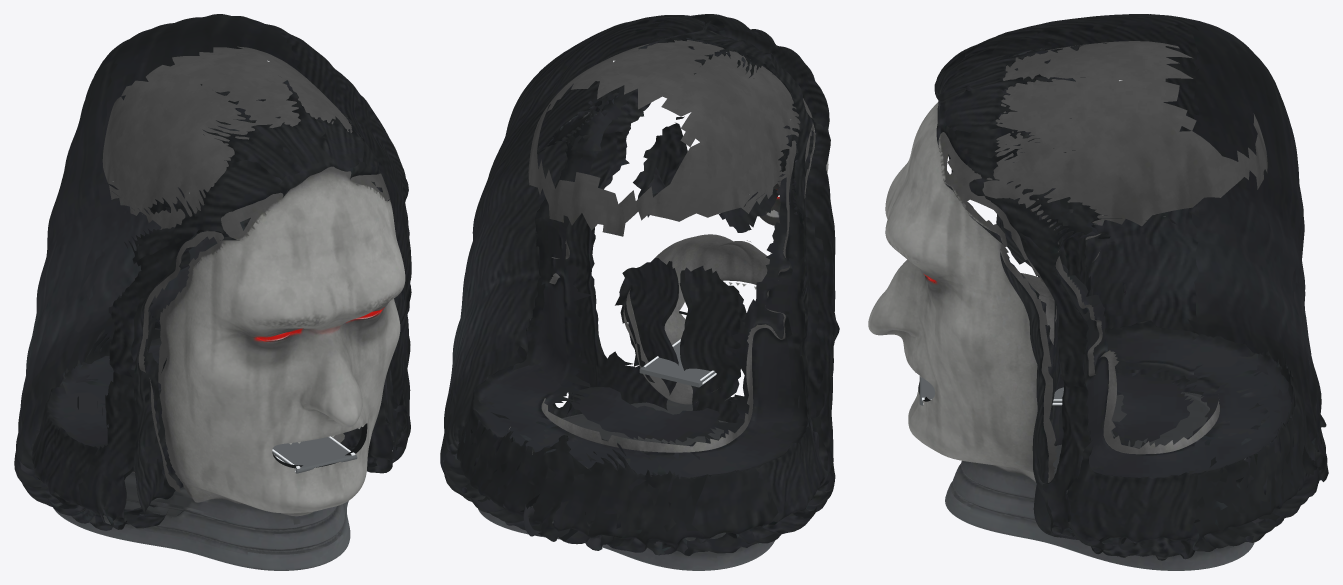
The model's file is faust_head.98712ecf.glb.
The picture shows the model from 3 angles, left to right: view 1: azimuth 30°, elevation 25°; view 2: azimuth 150°, elevation 25°; view 3: azimuth 270°, elevation 25°; orthographic projection. The views are drawn at different scales.
Parts seen in each view (by area): view 1: lod0; view 2: lod0; view 3: lod0.
Boxes of the visible parts, <box> form: lod0: <box>14,14,411,570</box>; lod0: <box>440,14,839,570</box>; lod0: <box>868,14,1328,570</box>.
Size of what is drawn, in the model's own units: 720 by 897 by 785.
Materials: 1 (1 with a texture image).
